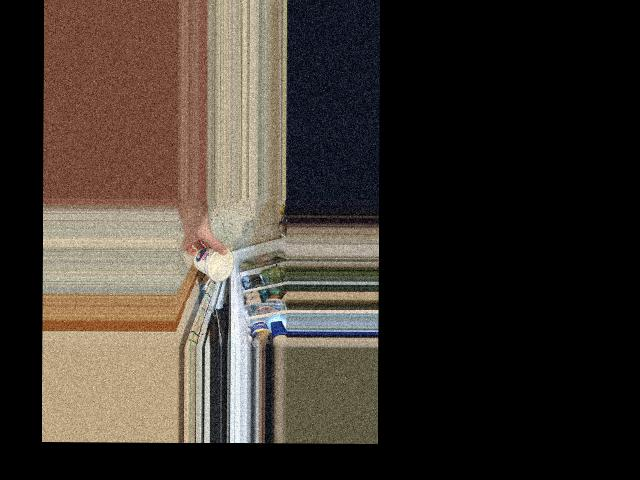cotage: (195, 241, 235, 280)
